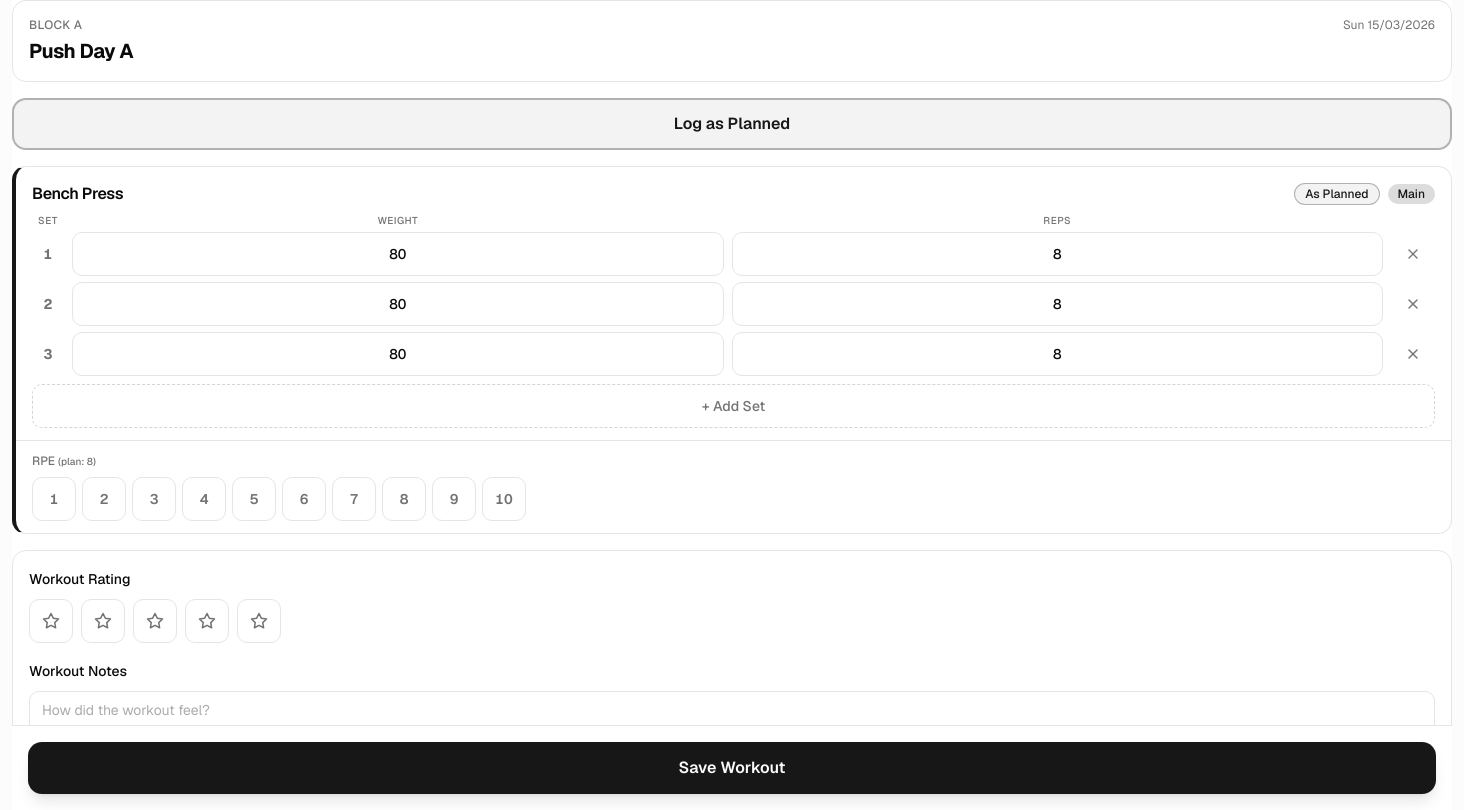
Test: Copy Down — AC30: copies set 1 values to sets 2..N › copies weight and reps from set 1 to all other sets
Note: Edit set 1
Clear the field with test id "weight-input-0-0" at (398, 254), box top-left (72, 232), bottom-right (724, 276)
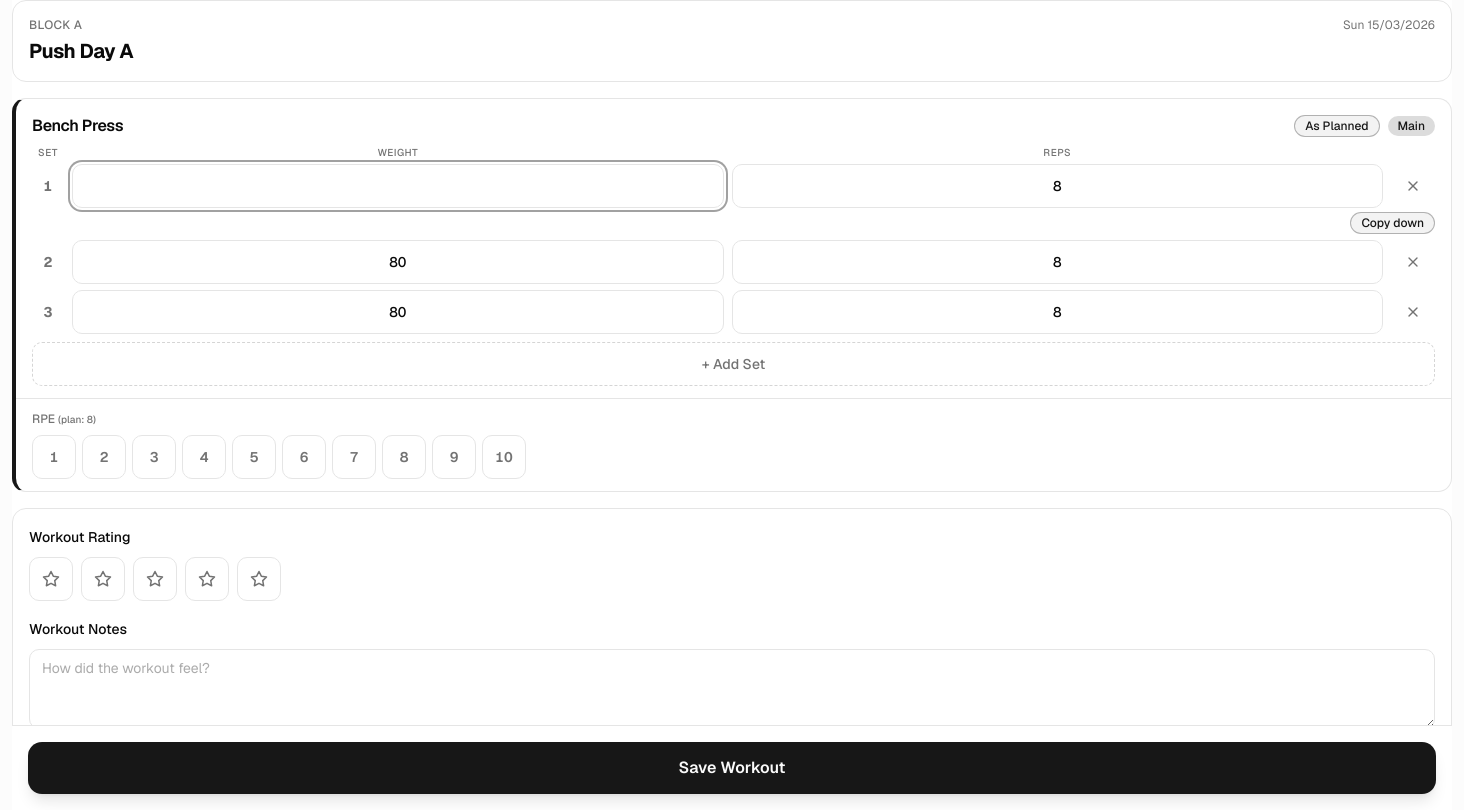
Type "90" into the field with test id "weight-input-0-0" at (398, 186), box top-left (72, 164), bottom-right (724, 208)
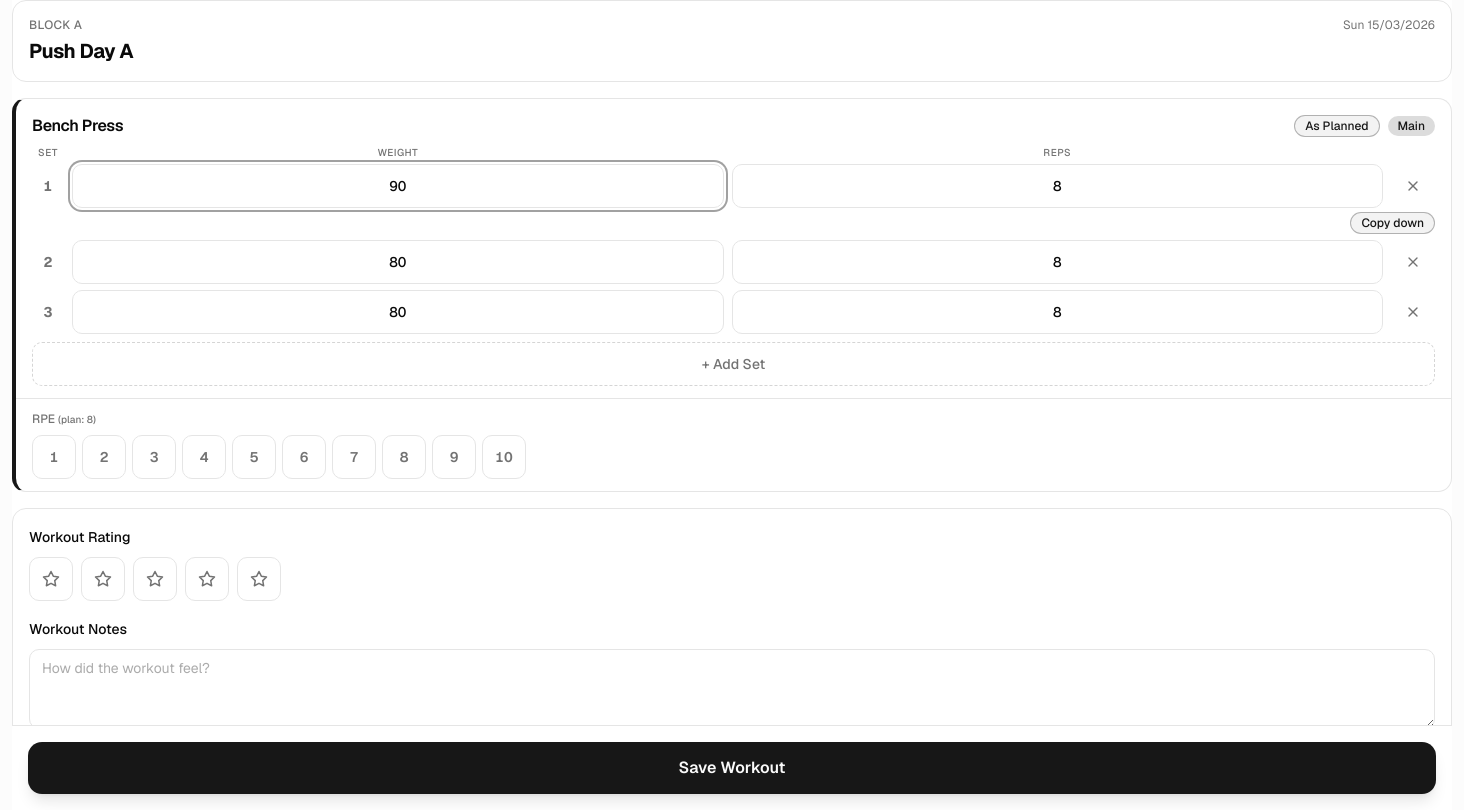
Replace the text in the field with test id "reps-input-0-0" with "6" at (1057, 186), box top-left (732, 164), bottom-right (1383, 208)
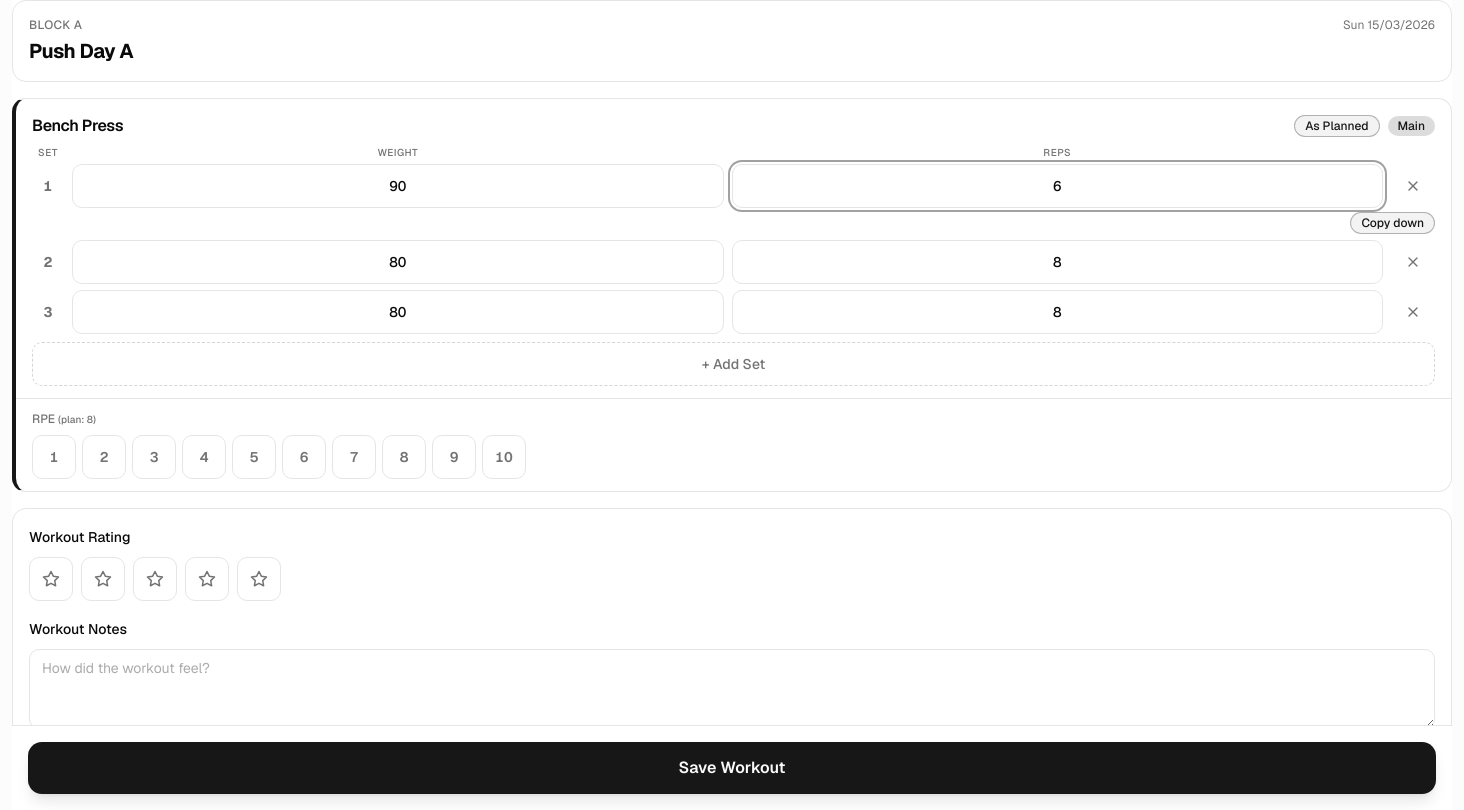
Note: Tap copy-down
Click the button with test id "copy-down-btn-0" at (1393, 223), box top-left (1350, 212), bottom-right (1435, 234)
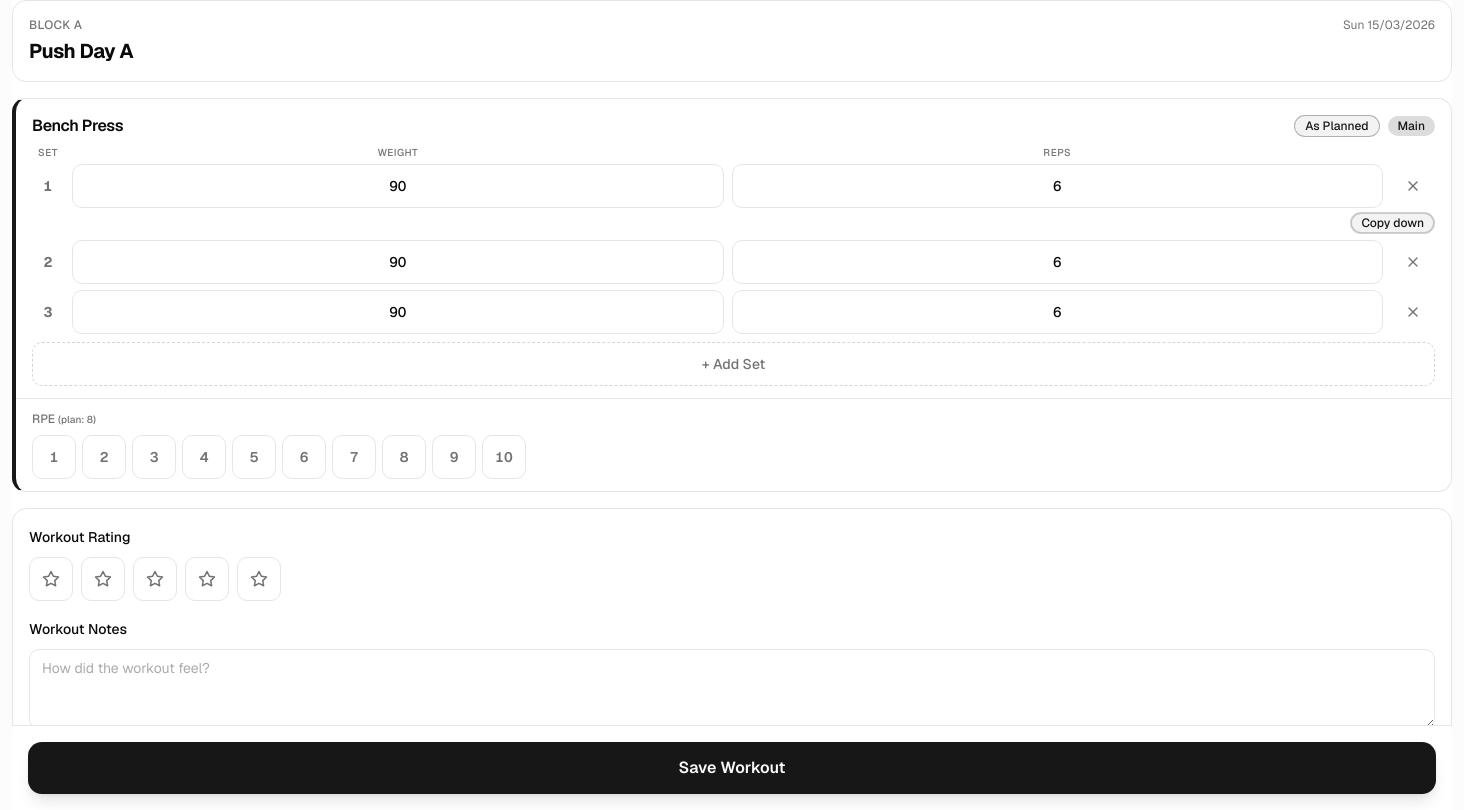
Expected: the field with test id "weight-input-0-1" holds "90", top-left (72, 240), bottom-right (724, 284)
Expected: the field with test id "reps-input-0-1" holds "6", top-left (732, 240), bottom-right (1383, 284)
Expected: the field with test id "weight-input-0-2" holds "90", top-left (72, 290), bottom-right (724, 334)
